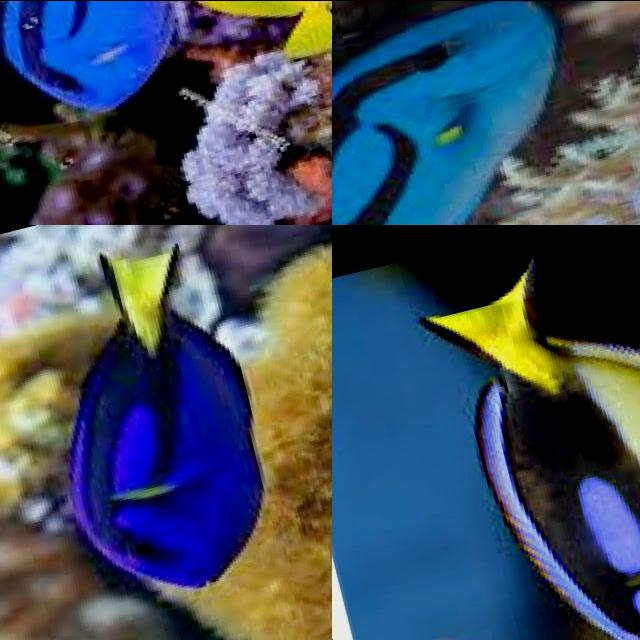BlueTang: (415, 266, 637, 635), (67, 256, 253, 587), (332, 1, 555, 224), (0, 0, 164, 108)
